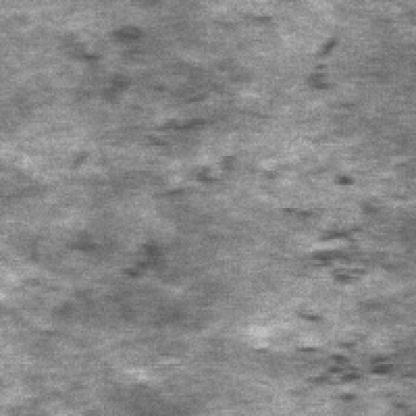rolled-in_scale: (276, 170, 402, 414), (120, 102, 222, 289)
